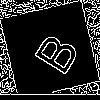B: (25, 25, 81, 78)
